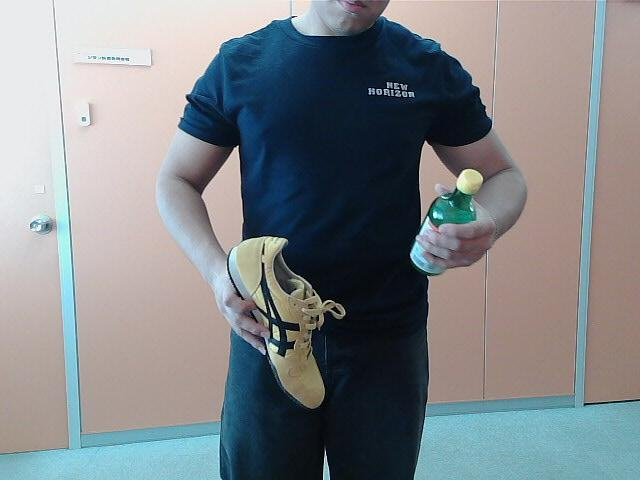Lemon_sapporo: (406, 166, 484, 278)
Shoes: (222, 234, 326, 410)
